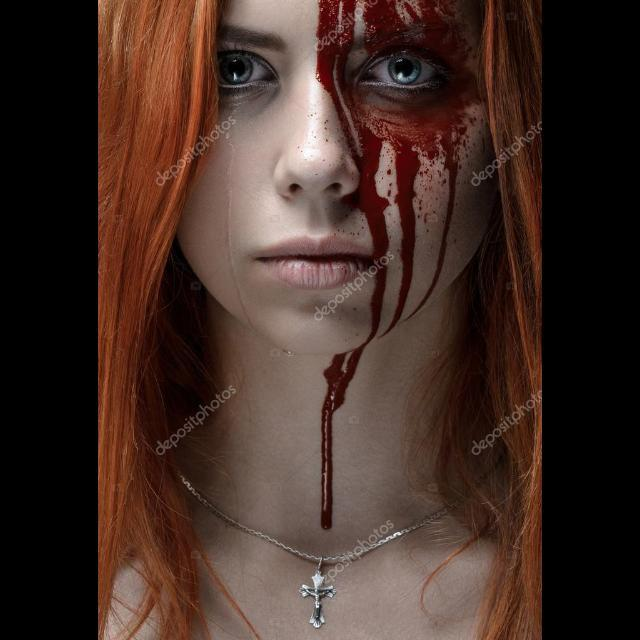blood: (316, 1, 476, 341), (321, 343, 367, 531)
